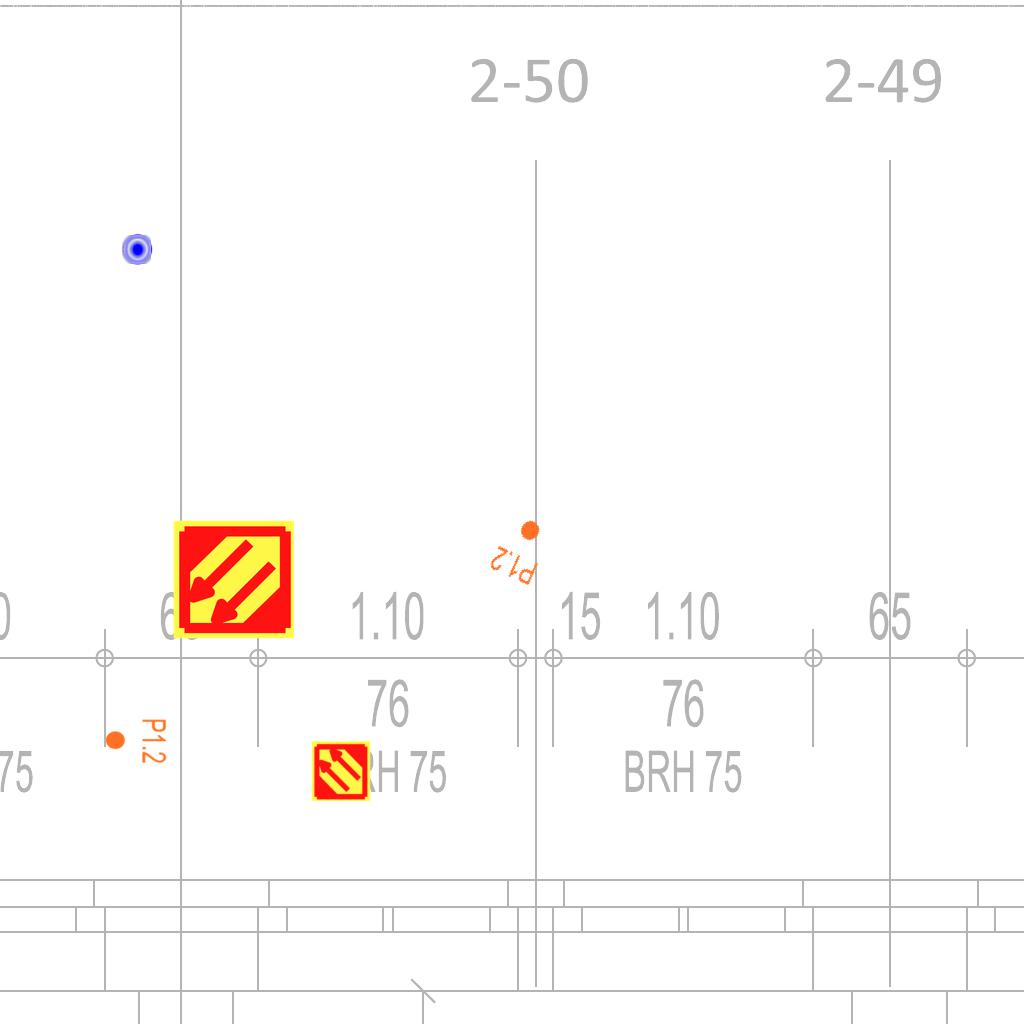ASR_Ansaugrauchmelder: (171, 517, 296, 642), (310, 740, 372, 802)
Downlight_LED_Einbauleuchten_Flur: (486, 510, 556, 588), (104, 718, 168, 764)
Taster: (120, 233, 153, 266)
